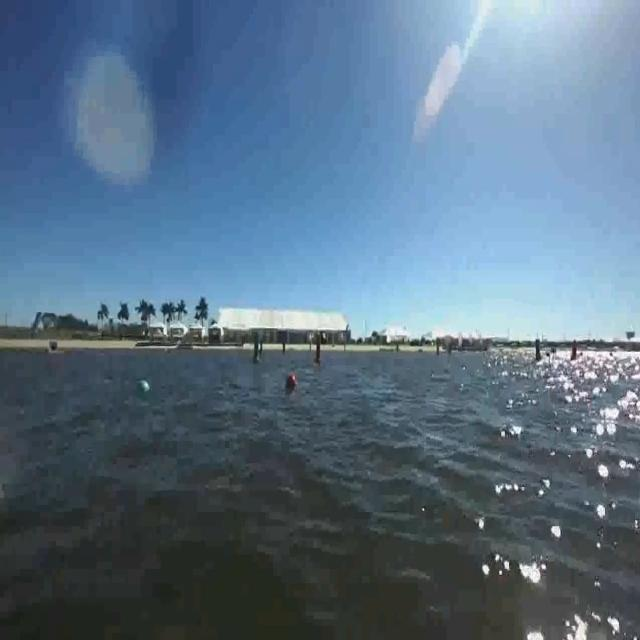green-buoy: (136, 378, 151, 401)
green-column-buoy: (252, 332, 264, 365)
red-buoy: (288, 376, 296, 386)
red-column-buoy: (314, 338, 323, 364)
